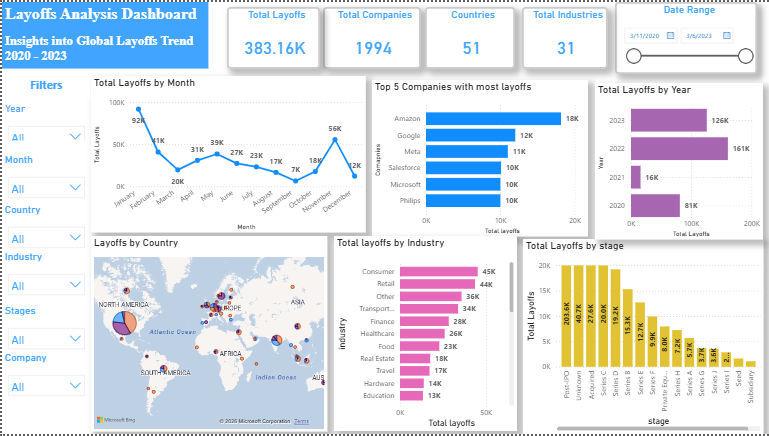

The page's visual inventory and layout, read from the dashboard file:
{"tool":"powerbi","page":{"name":"Page 1","canvas":[1280,720],"ordinal":0},"visuals":[{"type":"slicer","title":"Date Range","fields":{"Values":["layoffs data.date"]},"box":[1021.4,0,237.1,120],"z":0},{"type":"slicer","title":"Country","fields":{"Values":["layoffs data.country"]},"box":[0,334.8,147.5,92.9],"z":0,"group":"g2"},{"type":"group","id":"g1","title":"Group 2","box":[0,166.3,147.5,501.2],"z":1000},{"type":"slicer","title":"Industry","fields":{"Values":["layoffs data.industry"]},"box":[0,412.8,147.5,90.4],"z":1000,"group":"g2"},{"type":"slicer","title":"Company","fields":{"Values":["layoffs data.company"]},"box":[0,581.3,147.5,86.2],"z":1000,"group":"g1"},{"type":"card","title":"Total Companies","fields":{"Values":["CountNonNull(layoffs data.company)"]},"box":[534.3,8.6,162.5,102.5],"z":2000},{"type":"group","id":"g2","title":"Group 1","box":[0,166.3,147.5,413.8],"z":2000,"group":"g1"},{"type":"slicer","title":"Year","fields":{"Values":["layoffs data.date.Variation.Date Hierarchy.Year"]},"box":[0,166.3,147.5,64.4],"z":2000,"group":"g2"},{"type":"card","title":"Total Layoffs","fields":{"Values":["Sum(layoffs data.total_laid_off)"]},"box":[375.7,8.6,155,102.5],"z":3000},{"type":"slicer","title":"Month","fields":{"Values":["layoffs data.date.Variation.Date Hierarchy.Month"]},"box":[0,250.5,147.5,84.2],"z":3000,"group":"g2"},{"type":"card","title":"Countries","fields":{"Values":["Count(layoffs data.country)"]},"box":[705.7,8.6,150,102.5],"z":4000},{"type":"slicer","title":"Stages","fields":{"Values":["layoffs data.stage"]},"box":[0,503.2,147.5,76.8],"z":4000,"group":"g2"},{"type":"card","title":"Total Industries","fields":{"Values":["Count(layoffs data.industry)"]},"box":[867.1,8.6,142.5,102.5],"z":5000},{"type":"lineChart","fields":{"Y":["Sum(layoffs data.total_laid_off)"],"Category":["layoffs data.date.Variation.Date Hierarchy.Month"]},"box":[147.5,122.5,457.5,261.2],"z":6000},{"type":"clusteredBarChart","title":"Top 5 Companies with most layoffs","fields":{"Category":["layoffs data.company"],"Y":["Sum(layoffs data.total_laid_off)"]},"box":[616.2,130,360,261.2],"z":7000},{"type":"map","title":"Layoffs by Country","fields":{"Category":["layoffs data.country"],"Series":["layoffs data.date.Variation.Date Hierarchy.Year"],"Size":["Sum(layoffs data.total_laid_off)"]},"box":[147.5,390,393.8,326.2],"z":8000},{"type":"clusteredBarChart","title":"Total layoffs by Industry","fields":{"Category":["layoffs data.industry"],"Y":["Sum(layoffs data.total_laid_off)"]},"box":[552.5,390,305,325],"z":9000},{"type":"columnChart","fields":{"Y":["Sum(layoffs data.total_laid_off)"],"Category":["layoffs data.stage"]},"box":[867.5,395,401.2,325],"z":10000},{"type":"textbox","box":[0,120,147.1,41.4],"z":11000},{"type":"barChart","fields":{"Category":["layoffs data.date.Variation.Date Hierarchy.Year"],"Y":["Sum(layoffs data.total_laid_off)"]},"box":[988.6,134.3,280,261.4],"z":11001},{"type":"textbox","box":[0,0,344.3,111.4],"z":11002}]}

Visuals, with their boxes in screenshot pixels (x1, y1, x2, y2), scaled from the page's 1280x720 canvas onto the 769x436 screenshot:
"Date Range" slicer: [614, 0, 756, 73]
"Country" slicer: [0, 203, 89, 259]
"Group 2" group: [0, 101, 89, 404]
"Industry" slicer: [0, 250, 89, 305]
"Company" slicer: [0, 352, 89, 404]
"Total Companies" card: [321, 5, 419, 67]
"Group 1" group: [0, 101, 89, 351]
"Year" slicer: [0, 101, 89, 140]
"Total Layoffs" card: [226, 5, 319, 67]
"Month" slicer: [0, 152, 89, 203]
"Countries" card: [424, 5, 514, 67]
"Stages" slicer: [0, 305, 89, 351]
"Total Industries" card: [521, 5, 607, 67]
lineChart - Sum(layoffs data.total_laid_off) x layoffs data.date.Variation.Date Hierarchy.Month: [89, 74, 363, 232]
"Top 5 Companies with most layoffs" clusteredBarChart: [370, 79, 586, 237]
"Layoffs by Country" map: [89, 236, 325, 434]
"Total layoffs by Industry" clusteredBarChart: [332, 236, 515, 433]
columnChart - Sum(layoffs data.total_laid_off) x layoffs data.stage: [521, 239, 762, 435]
textbox: [0, 73, 88, 98]
barChart - layoffs data.date.Variation.Date Hierarchy.Year x Sum(layoffs data.total_laid_off): [594, 81, 762, 240]
textbox: [0, 0, 207, 67]
